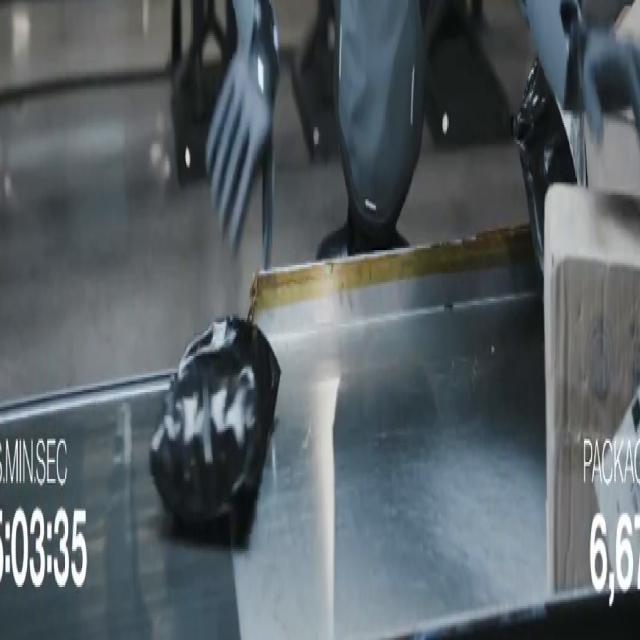package: (544, 185, 639, 591), (150, 316, 280, 525), (512, 60, 576, 271), (586, 111, 639, 194)
